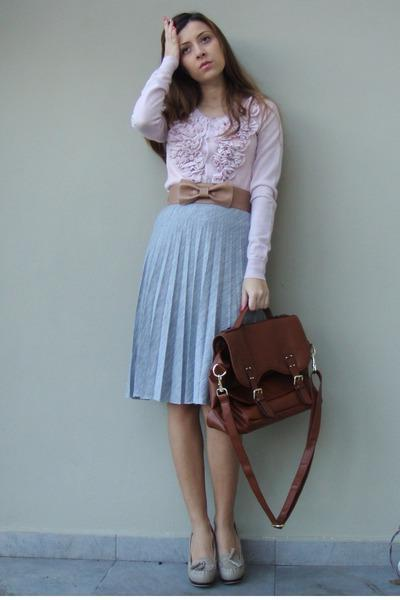dress: (122, 198, 277, 410)
long sleeve shirt: (134, 54, 286, 282)
